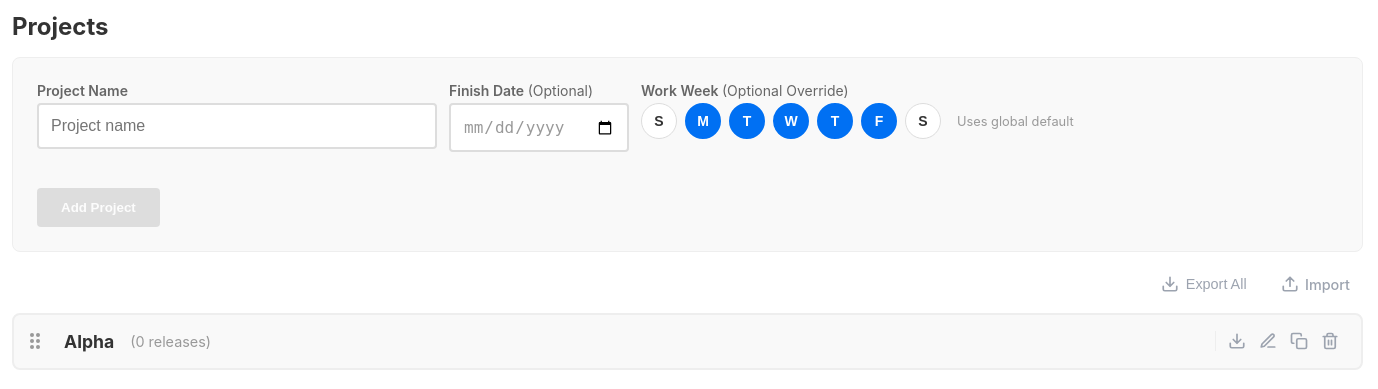
Test: ProjectsTab › edit project › cancels edit and clears form on Cancel click
The width and height of the screenshot is (1378, 389).
Click the button named "Edit project" at (1268, 341), box [1253, 327, 1283, 356]
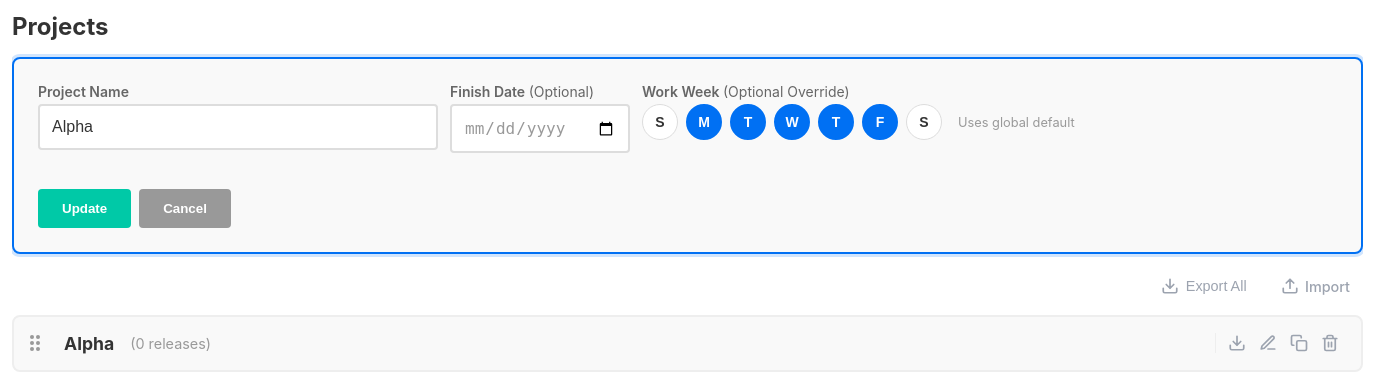
Click the button "Cancel" at (185, 208), box [139, 189, 231, 228]
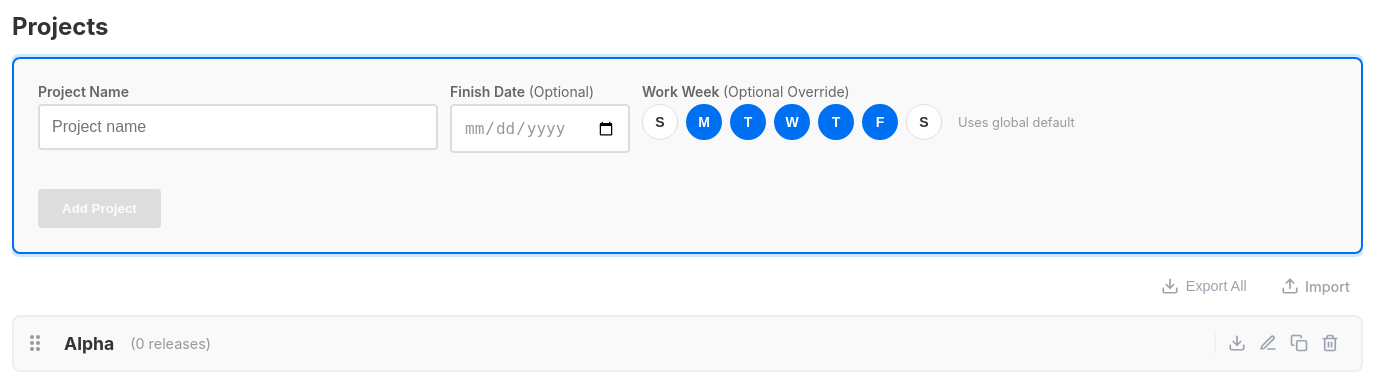
Check: the field with placeholder "Project Name" is empty, box [38, 104, 438, 150]
Check: the button "Add Project" is shown, box [38, 189, 161, 228]
